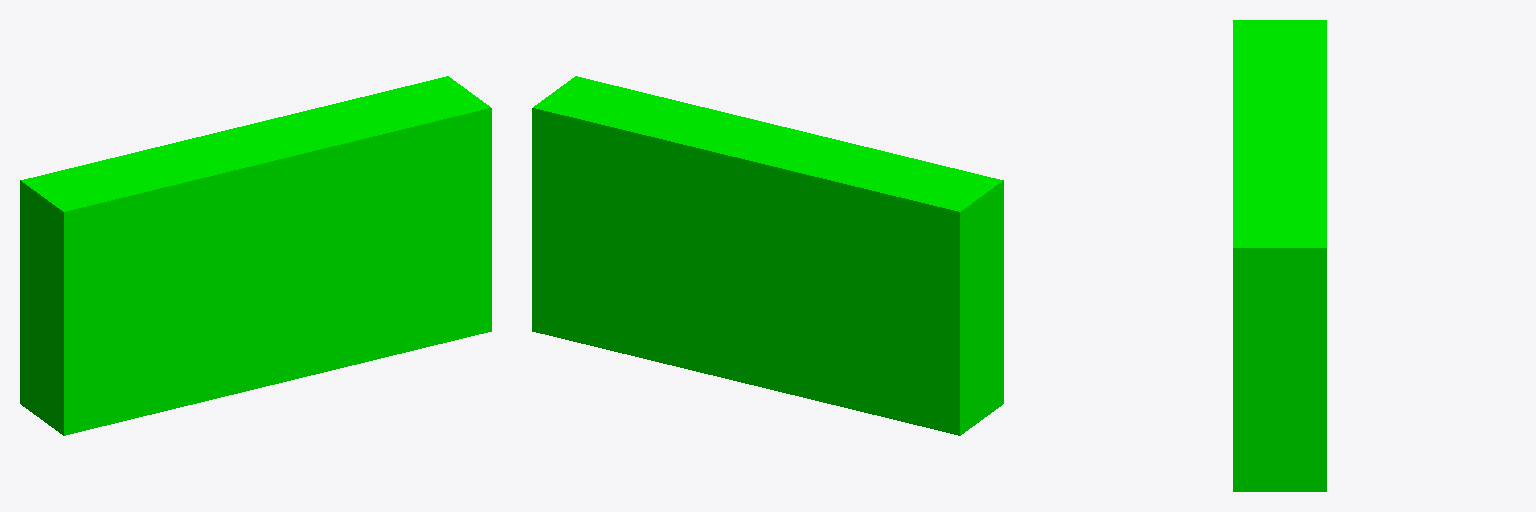
robot.urdf — box_green:
<?xml version="1.0" ?>
<robot name="box_green">

  <link name="base_link">

    <inertial>
      <origin rpy="0.0 0.0 0.0" xyz="0.0 0.0 0.0"/>
      <mass value="5.0"/>
      <inertia ixx="0.1871" ixy="0.0" ixz="0.0" iyy="0.8333" iyz="0.0" izz="0.6871"/>
    </inertial>

    <visual>
      <origin rpy="0.0 0.0 0.0" xyz="0.0 0.0 0.025"/>
      <geometry>
        <box size="0.4 0.07 0.2"/>
      </geometry>
      <material name="green">
        <color rgba="0 1 0 1"/>
      </material>
    </visual>

    <collision>
      <origin rpy="0.0 0.0 0.0" xyz="0.0 0.0 0.025"/>
      <geometry>
        <box size="0.4 0.07 0.2"/>
      </geometry>
    </collision>

  </link>

  <gazebo reference="base_link">
    <material>Gazebo/Green</material>
  </gazebo>
  
</robot>

--- Facts derived from the render (not from the file) ---
The picture shows the robot from 3 angles, left to right: view 1: azimuth 30°, elevation 25°; view 2: azimuth 150°, elevation 25°; view 3: azimuth 270°, elevation 25°; orthographic projection.
Robot: box_green — 1 links, 0 joints (none); root link base_link; default pose: all joints at 0.
Visible links, largest first — view 1: base_link; view 2: base_link; view 3: base_link.
Link boxes in pixels (<box>): base_link: <box>20,76,491,435</box>; base_link: <box>532,76,1003,435</box>; base_link: <box>1233,20,1326,491</box>.
Size in the robot's own frame: 0.4 by 0.07 by 0.2 metres.
Geometry: primitives only (box / cylinder / sphere), no mesh files.